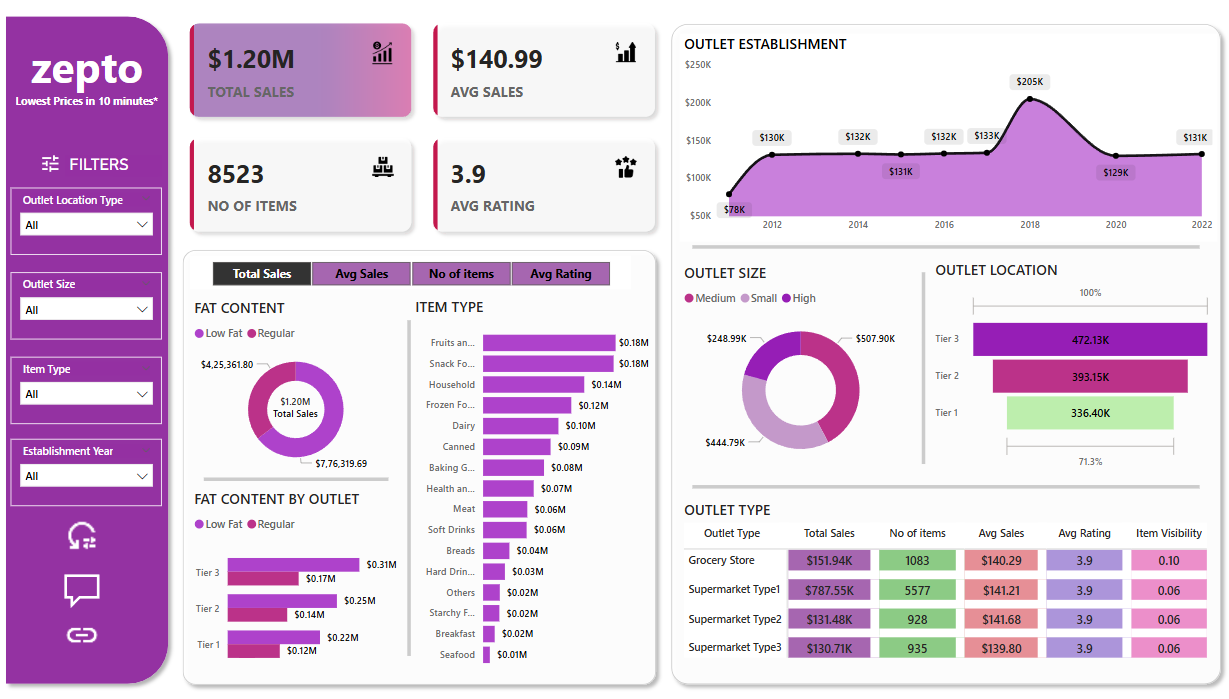

The dashboard page shown, as its layout file describes it:
{"tool":"powerbi","page":{"name":"Page 1","canvas":[1400,800],"ordinal":0},"visuals":[{"type":"shape","box":[0,13.3,201.7,773.3],"z":0},{"type":"textbox","box":[9.5,42.1,181.8,74.6],"z":1000},{"type":"textbox","box":[0,103.1,200.8,31.2],"z":2000},{"type":"cardVisual","fields":{"Data":["BlinkIT Grocery Data.Total Sales","BlinkIT Grocery Data.Avg Sales","BlinkIT Grocery Data.No of items","BlinkIT Grocery Data.Avg Rating"]},"box":[200,12.9,561.4,270],"z":3000},{"type":"shape","box":[199.5,276.8,553.6,510.2],"z":4000},{"type":"donutChart","title":"FAT CONTENT","fields":{"Y":["BlinkIT Grocery Data.Total Sales"],"Category":["BlinkIT Grocery Data.Item Fat Content"]},"box":[217.1,340.6,240.2,203.5],"z":5000},{"type":"slicer","fields":{"Values":["Matrix.Matrix"]},"box":[217.1,293.1,499.3,38],"z":6000},{"type":"cardVisual","fields":{"Data":["BlinkIT Grocery Data.Total Sales"]},"box":[290.4,432.9,93.6,62.4],"z":7000},{"type":"clusteredBarChart","title":"FAT CONTENT BY OUTLET","fields":{"Y":["BlinkIT Grocery Data.Total Sales"],"Category":["BlinkIT Grocery Data.Outlet Location Type"],"Series":["BlinkIT Grocery Data.Item Fat Content"]},"box":[216.7,555,240,215],"z":8000},{"type":"barChart","title":"ITEM TYPE","fields":{"Y":["BlinkIT Grocery Data.Total Sales"],"Category":["BlinkIT Grocery Data.Item Type"]},"box":[466.7,338.3,275,430],"z":9000},{"type":"shape","box":[233.4,531.9,209,28.5],"z":10000},{"type":"shape","box":[454.6,365,21.7,379.9],"z":11000},{"type":"shape","box":[753.1,21.7,640,765.3],"z":12000},{"type":"lineChart","title":"OUTLET ESTABLISHMENT","fields":{"Y":["BlinkIT Grocery Data.Total Sales"],"Category":["BlinkIT Grocery Data.Outlet Establishment Year"]},"box":[770.7,42.1,608,235],"z":13000},{"type":"donutChart","title":"OUTLET SIZE","fields":{"Y":["BlinkIT Grocery Data.Total Sales"],"Category":["BlinkIT Grocery Data.Outlet Size"]},"box":[771.4,300,274.3,240],"z":14000},{"type":"shape","box":[785.6,268.7,574,28.5],"z":15000},{"type":"funnel","title":"OUTLET LOCATION","fields":{"Category":["BlinkIT Grocery Data.Outlet Location Type"],"Y":["Sum(BlinkIT Grocery Data.Sales)"]},"box":[1055.7,297.2,322.9,242.9],"z":16000},{"type":"shape","box":[1035.3,312.1,23.1,217.1],"z":17000},{"type":"shape","box":[785.6,540,574,28.5],"z":18000},{"type":"pivotTable","title":"OUTLET TYPE","fields":{"Rows":["BlinkIT Grocery Data.Outlet Type"],"Values":["BlinkIT Grocery Data.Total Sales","BlinkIT Grocery Data.No of items","BlinkIT Grocery Data.Avg Sales","BlinkIT Grocery Data.Avg Rating","Avg(BlinkIT Grocery Data.Item Visibility)"]},"box":[770.7,568.5,607.9,200.8],"z":19000},{"type":"slicer","fields":{"Values":["BlinkIT Grocery Data.Outlet Location Type"]},"box":[14.3,215.7,171.4,75.7],"z":20000},{"type":"slicer","fields":{"Values":["BlinkIT Grocery Data.Outlet Size"]},"box":[14.3,311.4,171.4,75.7],"z":21000},{"type":"slicer","fields":{"Values":["BlinkIT Grocery Data.Item Type"]},"box":[14.3,407.1,171.4,75.7],"z":22000},{"type":"image","box":[41.4,171.4,35.7,34.3],"z":23000},{"type":"textbox","title":"FILTERS","box":[75.7,178.6,110,24.3],"z":24000},{"type":"image","box":[70,584.3,50,50],"z":25000},{"type":"image","box":[70,697.1,50,50],"z":26000},{"type":"slicer","fields":{"Values":["BlinkIT Grocery Data.Outlet Establishment Year"]},"box":[14.3,500,171.4,75.7],"z":27000},{"type":"actionButton","box":[70,646.7,50,50],"z":28000}]}

Visuals, with their boxes in screenshot pixels (x1, y1, x2, y2), scaled from the page's 1400x800 canvas onto the 1229x699 screenshot:
shape: x1=0 y1=12 x2=177 y2=687
textbox: x1=8 y1=37 x2=168 y2=102
textbox: x1=0 y1=90 x2=176 y2=117
cardVisual - BlinkIT Grocery Data.Total Sales x BlinkIT Grocery Data.Avg Sales: x1=176 y1=11 x2=668 y2=247
shape: x1=175 y1=242 x2=661 y2=688
"FAT CONTENT" donutChart: x1=191 y1=298 x2=401 y2=475
slicer - Matrix.Matrix: x1=191 y1=256 x2=629 y2=289
cardVisual - BlinkIT Grocery Data.Total Sales: x1=255 y1=378 x2=337 y2=433
"FAT CONTENT BY OUTLET" clusteredBarChart: x1=190 y1=485 x2=401 y2=673
"ITEM TYPE" barChart: x1=410 y1=296 x2=651 y2=671
shape: x1=205 y1=465 x2=388 y2=490
shape: x1=399 y1=319 x2=418 y2=651
shape: x1=661 y1=19 x2=1223 y2=688
"OUTLET ESTABLISHMENT" lineChart: x1=677 y1=37 x2=1210 y2=242
"OUTLET SIZE" donutChart: x1=677 y1=262 x2=918 y2=472
shape: x1=690 y1=235 x2=1194 y2=260
"OUTLET LOCATION" funnel: x1=927 y1=260 x2=1210 y2=472
shape: x1=909 y1=273 x2=929 y2=462
shape: x1=690 y1=472 x2=1194 y2=497
"OUTLET TYPE" pivotTable: x1=677 y1=497 x2=1210 y2=672
slicer - BlinkIT Grocery Data.Outlet Location Type: x1=13 y1=188 x2=163 y2=255
slicer - BlinkIT Grocery Data.Outlet Size: x1=13 y1=272 x2=163 y2=338
slicer - BlinkIT Grocery Data.Item Type: x1=13 y1=356 x2=163 y2=422
image: x1=36 y1=150 x2=68 y2=180
"FILTERS" textbox: x1=66 y1=156 x2=163 y2=177
image: x1=61 y1=511 x2=105 y2=554
image: x1=61 y1=609 x2=105 y2=653
slicer - BlinkIT Grocery Data.Outlet Establishment Year: x1=13 y1=437 x2=163 y2=503
actionButton: x1=61 y1=565 x2=105 y2=609
